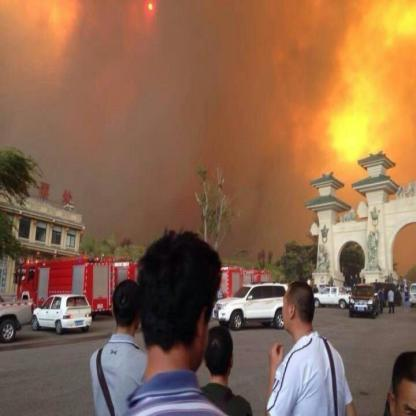fire: (274, 3, 416, 204), (0, 0, 95, 75)
smoke: (33, 0, 285, 230)
